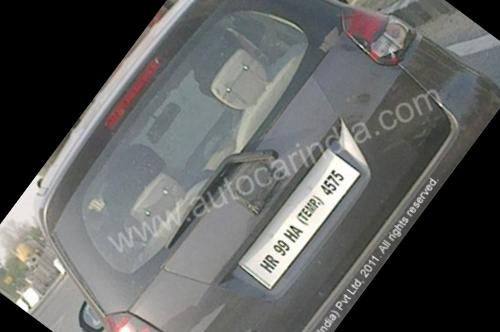plate: (221, 124, 383, 306)
